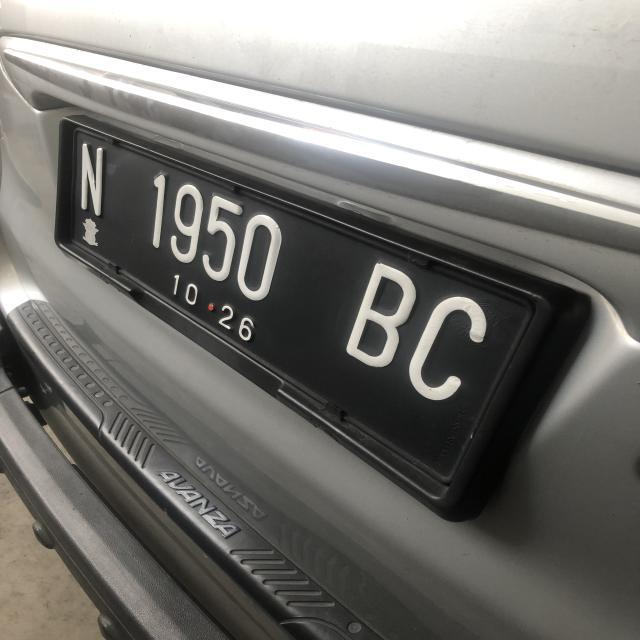0: (235, 216, 285, 302)
1: (148, 170, 173, 252)
5: (200, 195, 245, 282)
9: (168, 182, 204, 266)
B: (344, 260, 414, 371)
C: (404, 289, 490, 404)
N: (76, 141, 110, 214)
